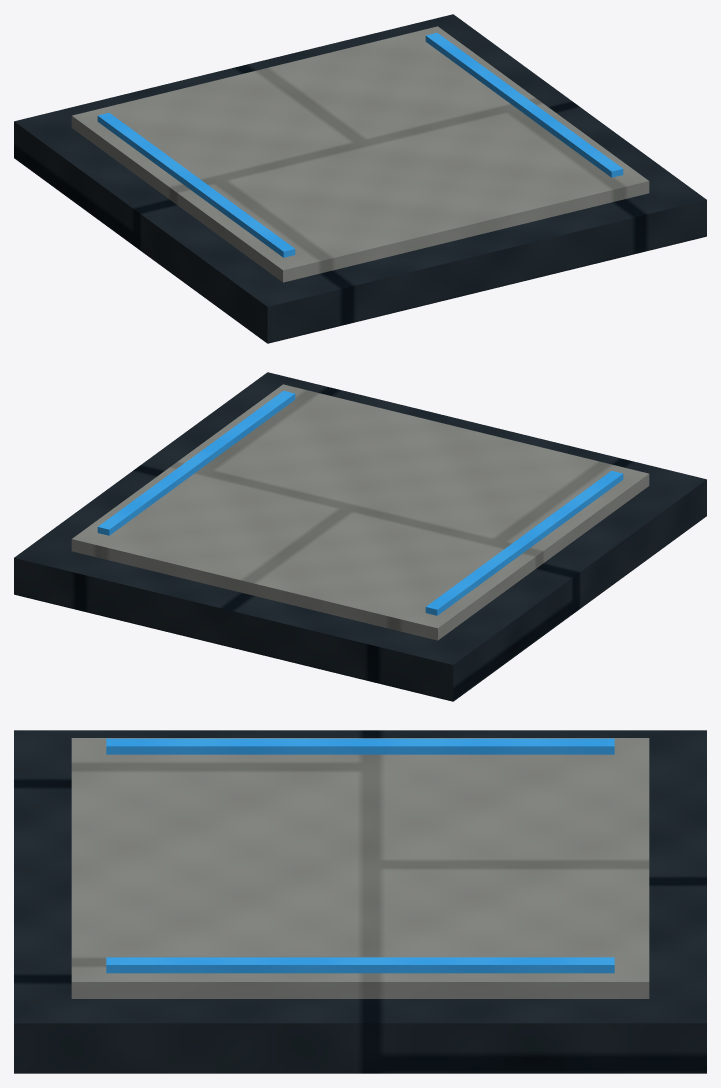
Rendered from pressure_plate.obj.
The picture shows the model from 3 angles, top to bottom: view 1: azimuth 30°, elevation 25°; view 2: azimuth 150°, elevation 25°; view 3: azimuth 270°, elevation 25°; orthographic projection. The views are drawn at different scales.
Parts seen in each view (by area): view 1: pressure_plate; view 2: pressure_plate; view 3: pressure_plate.
Part boxes in pixels (x1,y1,x2,y2): pressure_plate: [14, 14, 706, 343]; pressure_plate: [14, 372, 706, 701]; pressure_plate: [14, 730, 706, 1073].
Bounding box in the file's own units: 1.5 × 0.18 × 1.5.
3 materials, 3 textured.
